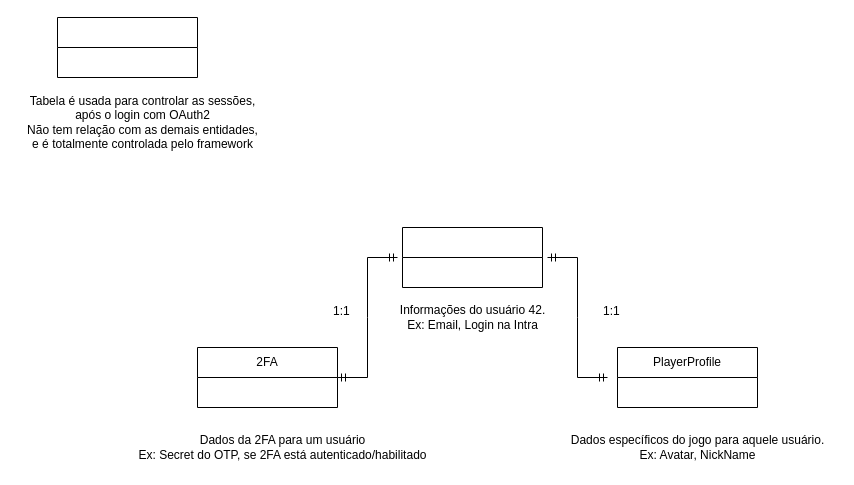
This 854x485 diagram has some shape labels left out. Here are the shapes that lost their labels. From the top down, the centre of each, then its label:
At (x=127, y=47): "Sessions".
At (x=472, y=257): "Users".
